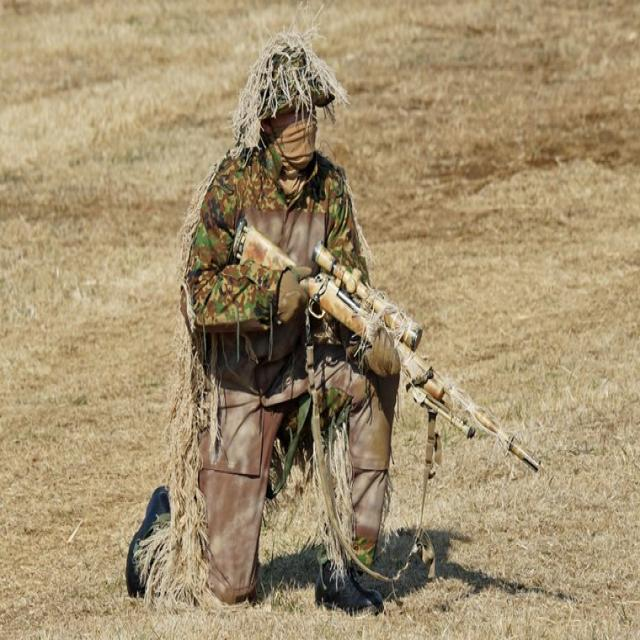rifle: (234, 219, 554, 490)
